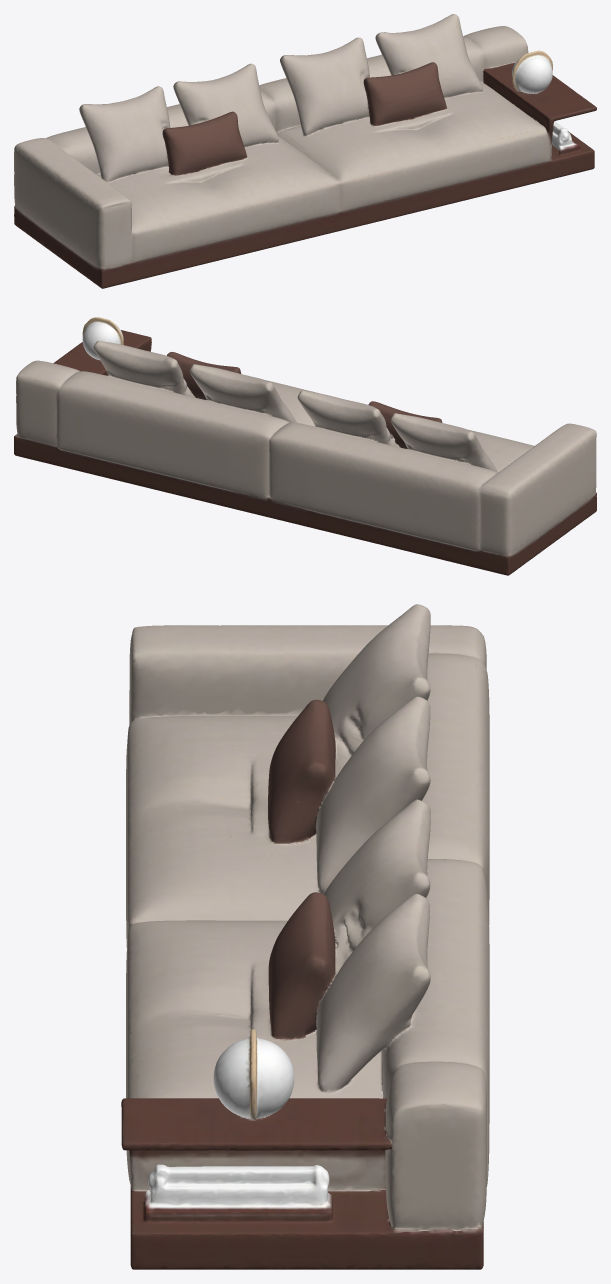
File: Contemporary Track Arm Sofa with Integrated Side Table [7lVeJ0].glb
3 renders of one model, top to bottom at view 1: azimuth 30°, elevation 25°; view 2: azimuth 150°, elevation 25°; view 3: azimuth 270°, elevation 25°, orthographic. The views are drawn at different scales.
Parts seen in each view (by area): view 1: world; view 2: world; view 3: world.
Part boxes in pixels (x1=…): world: x1=14, y1=14, x2=596, y2=288; world: x1=14, y1=317, x2=596, y2=575; world: x1=121, y1=604, x2=489, y2=1269.
Bounding box in the file's own units: 1 × 0.2303 × 0.3228.
1 material, 1 textured.
